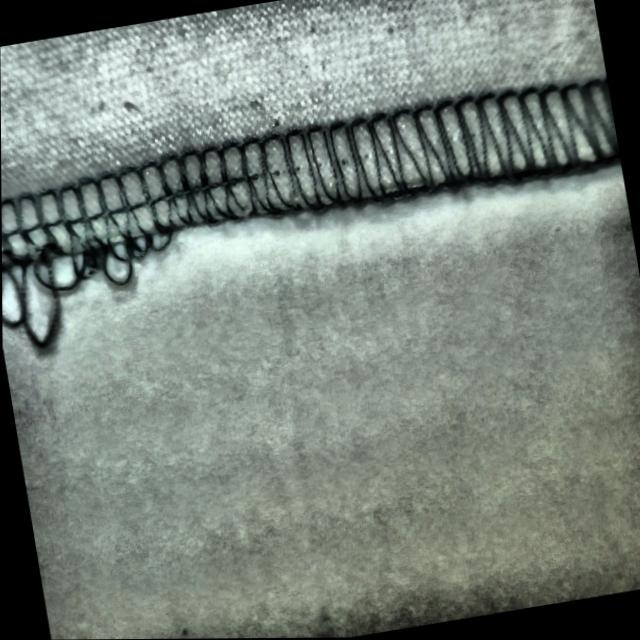Stitch: (0, 147, 197, 371)
